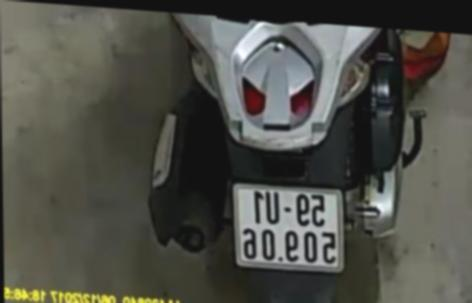License_Plate: (231, 177, 347, 276)
